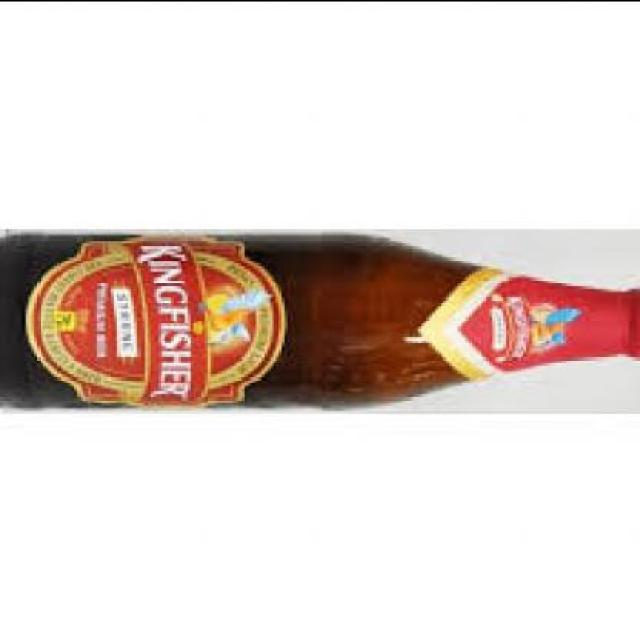GLASS: (3, 229, 639, 408)
